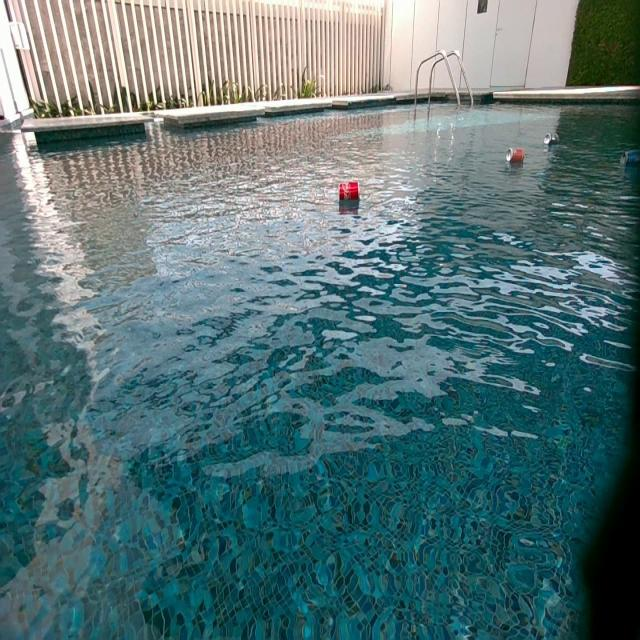Cans: (340, 181, 360, 200), (507, 148, 526, 166), (622, 152, 640, 170), (542, 134, 557, 146)
